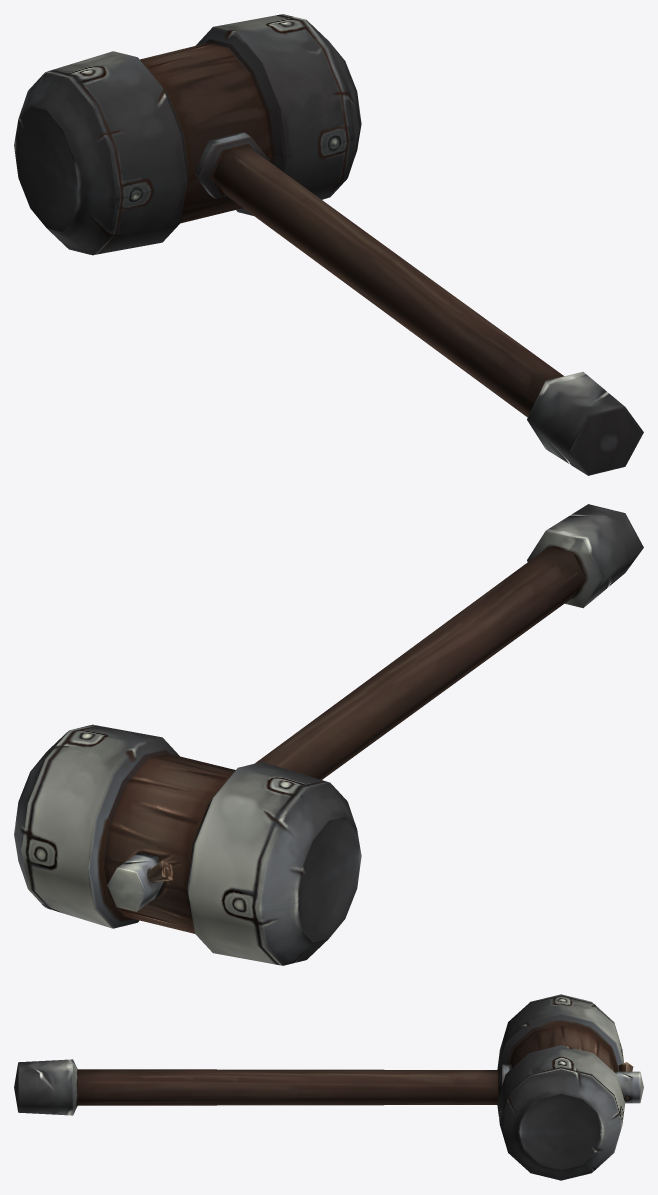
Rendered from Mace10.fbx.
3 views of the same model, one above another, from view 1: azimuth 30°, elevation 25°; view 2: azimuth 150°, elevation 25°; view 3: azimuth 270°, elevation 25° (orthographic). The views are drawn at different scales.
Parts seen in each view (by area): view 1: Mace10_el1, Mace10_el2; view 2: Mace10_el1, Mace10_el2; view 3: Mace10_el1, Mace10_el2.
Boxes of the visible parts, <box> form: Mace10_el1: <box>14,14,361,255</box>; Mace10_el2: <box>194,131,643,475</box>; Mace10_el1: <box>14,724,361,965</box>; Mace10_el2: <box>255,504,643,779</box>; Mace10_el1: <box>497,994,643,1180</box>; Mace10_el2: <box>14,1059,511,1115</box>.
Size of the model in its own units: 0.3668 by 0.2223 by 1.09.
